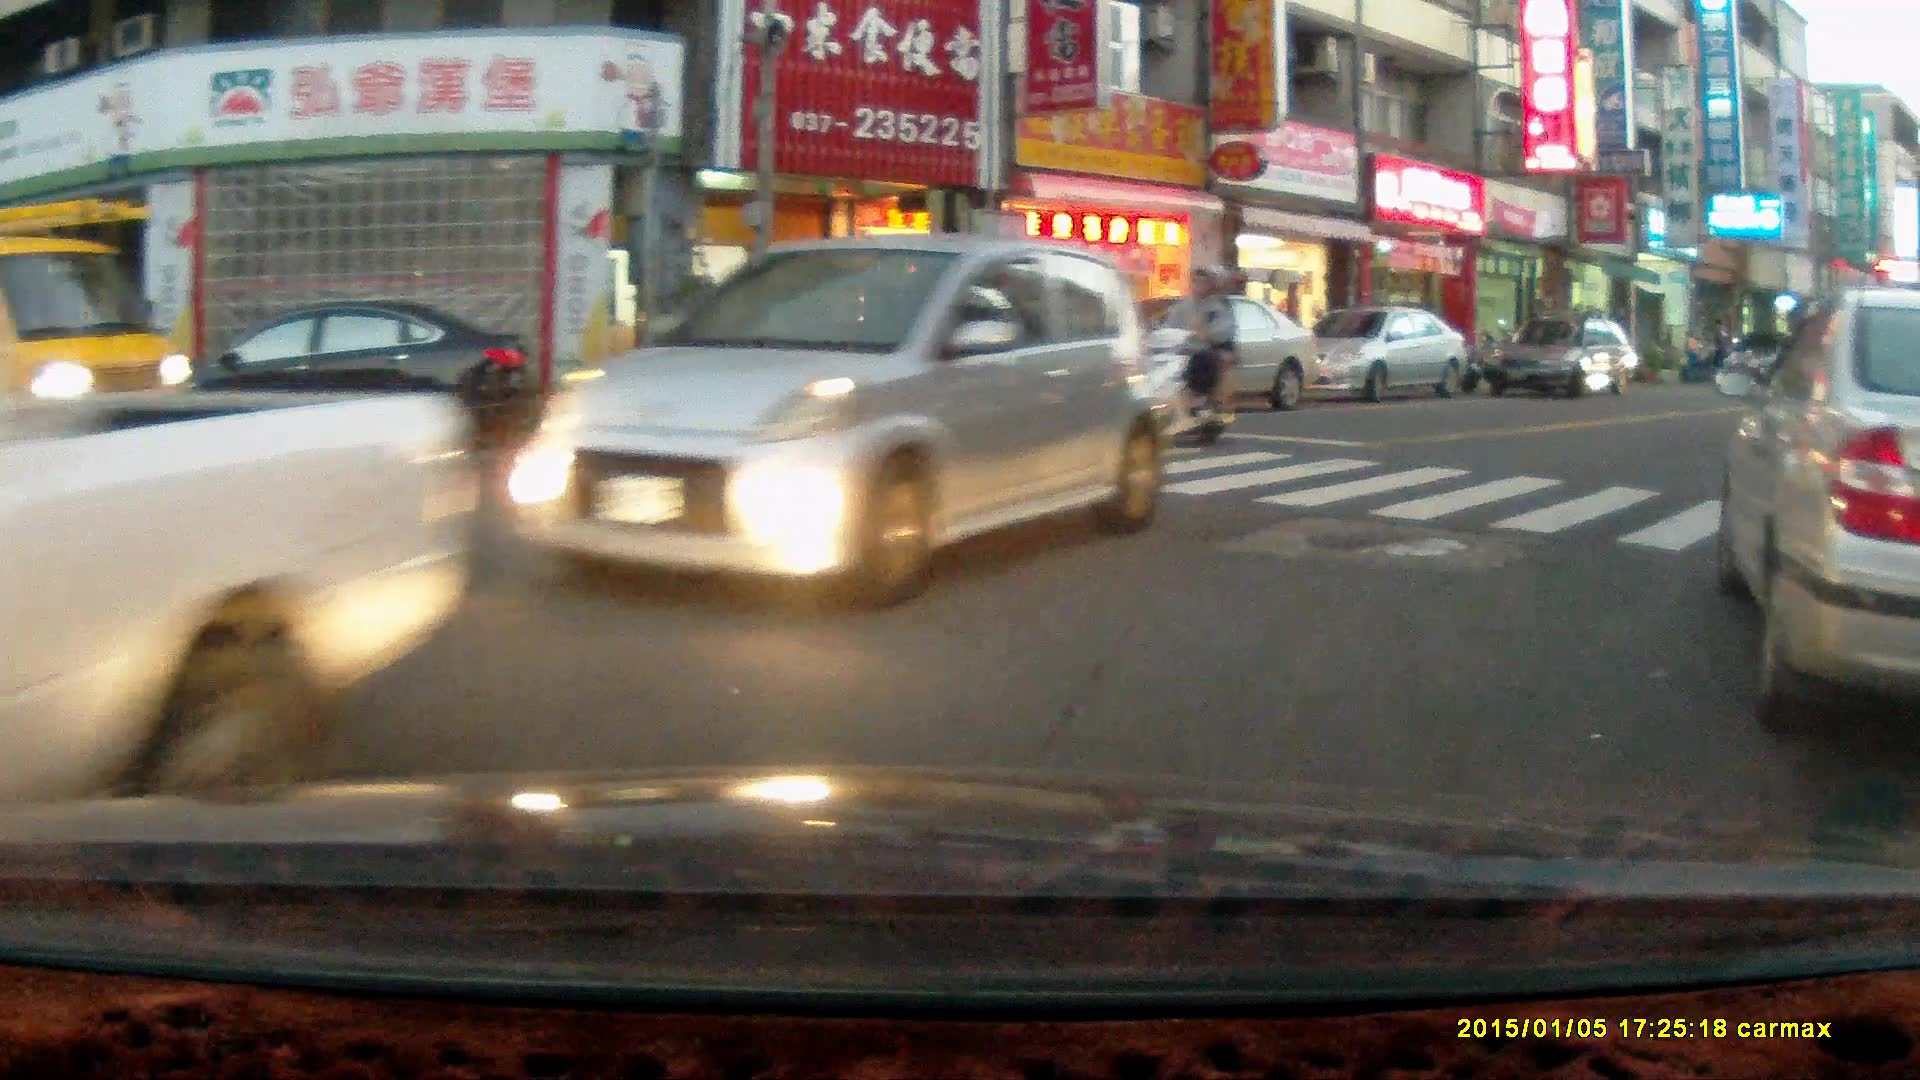rider: (1111, 261, 1241, 450)
vehicle: (502, 238, 1169, 609), (1, 368, 478, 793), (1715, 286, 1920, 754), (191, 294, 530, 450), (1129, 293, 1315, 415), (1292, 305, 1469, 399), (1481, 317, 1646, 401)
